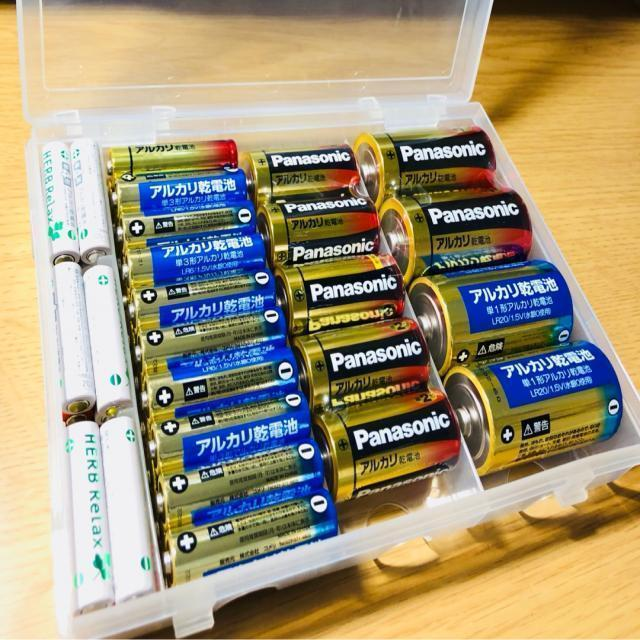Hazard: (442, 346, 625, 477), (404, 256, 578, 382), (160, 488, 342, 593), (315, 388, 464, 501), (144, 388, 316, 474), (149, 448, 324, 530), (293, 312, 432, 410), (380, 190, 535, 271), (96, 416, 162, 606), (348, 129, 500, 211), (139, 346, 303, 421), (64, 419, 118, 616), (273, 250, 410, 324), (252, 196, 384, 263), (80, 262, 138, 410), (123, 278, 280, 330), (48, 260, 100, 414), (136, 306, 293, 352), (242, 145, 362, 205), (121, 238, 271, 275), (116, 198, 255, 236), (42, 138, 82, 262), (104, 138, 246, 170), (70, 143, 108, 260), (106, 174, 252, 203)
